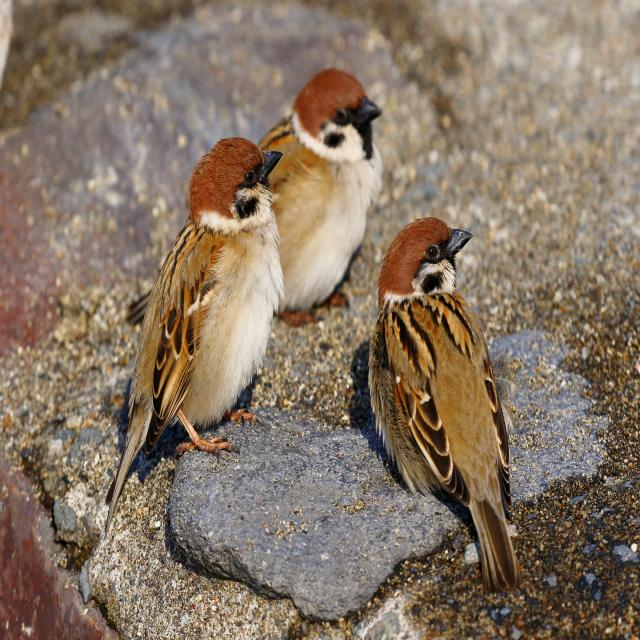sparrow: (106, 138, 284, 528), (369, 218, 520, 591), (260, 68, 382, 324)
